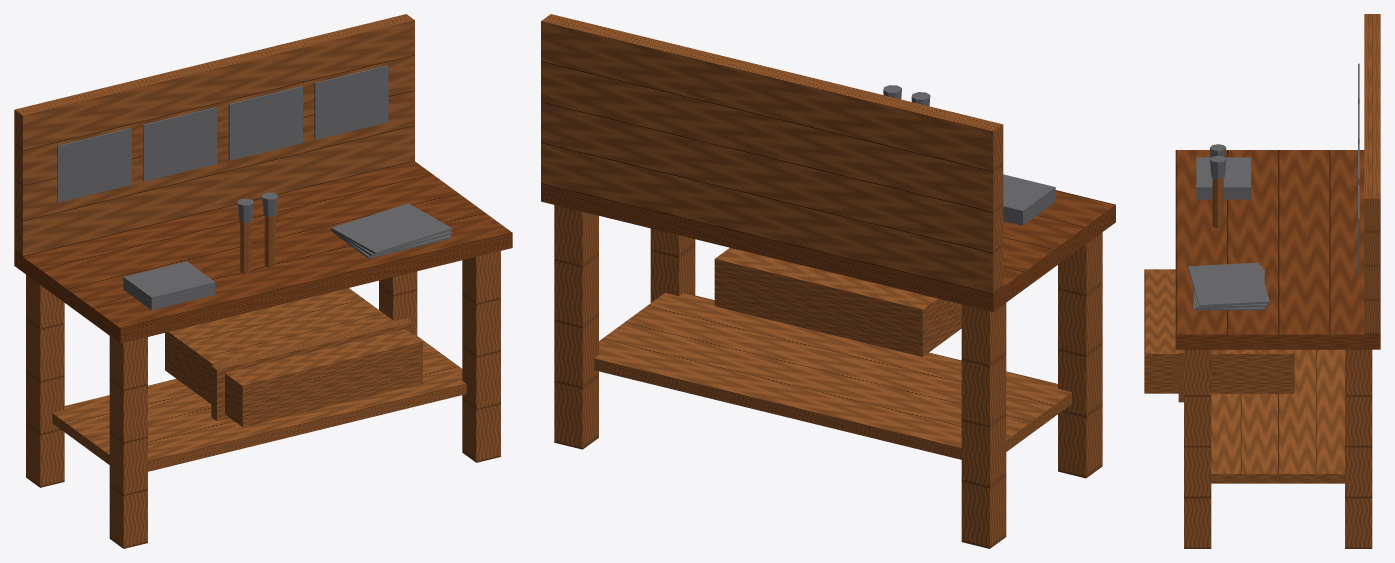
File: distillery-and-bonded-warehouse-stencil-bench-92b00a0a.glb
3 renders of one model, left to right at view 1: azimuth 30°, elevation 25°; view 2: azimuth 150°, elevation 25°; view 3: azimuth 270°, elevation 25°, orthographic. The views are drawn at different scales.
Parts seen in each view (by area): view 1: stencil-bench-timber, stencil-bench-oak, stencil-bench-iron, drawer/timber; view 2: stencil-bench-timber, stencil-bench-oak, drawer/timber, stencil-bench-iron; view 3: stencil-bench-oak, stencil-bench-timber, drawer/timber, stencil-bench-iron.
Part boxes in pixels (<box>): stencil-bench-timber: <box>14,14,500,548</box>; stencil-bench-oak: <box>14,161,512,343</box>; stencil-bench-iron: <box>57,65,452,310</box>; drawer/timber: <box>165,288,422,426</box>; stencil-bench-timber: <box>541,14,1102,548</box>; stencil-bench-oak: <box>541,184,1115,311</box>; drawer/timber: <box>714,248,961,356</box>; stencil-bench-iron: <box>883,85,1055,225</box>; stencil-bench-oak: <box>1175,150,1380,349</box>; stencil-bench-timber: <box>1184,14,1380,548</box>; drawer/timber: <box>1144,269,1294,402</box>; stencil-bench-iron: <box>1188,63,1359,310</box>.
Size of the model in its own units: 1.6 by 1.43 by 0.865.
3 materials, 2 textured.
